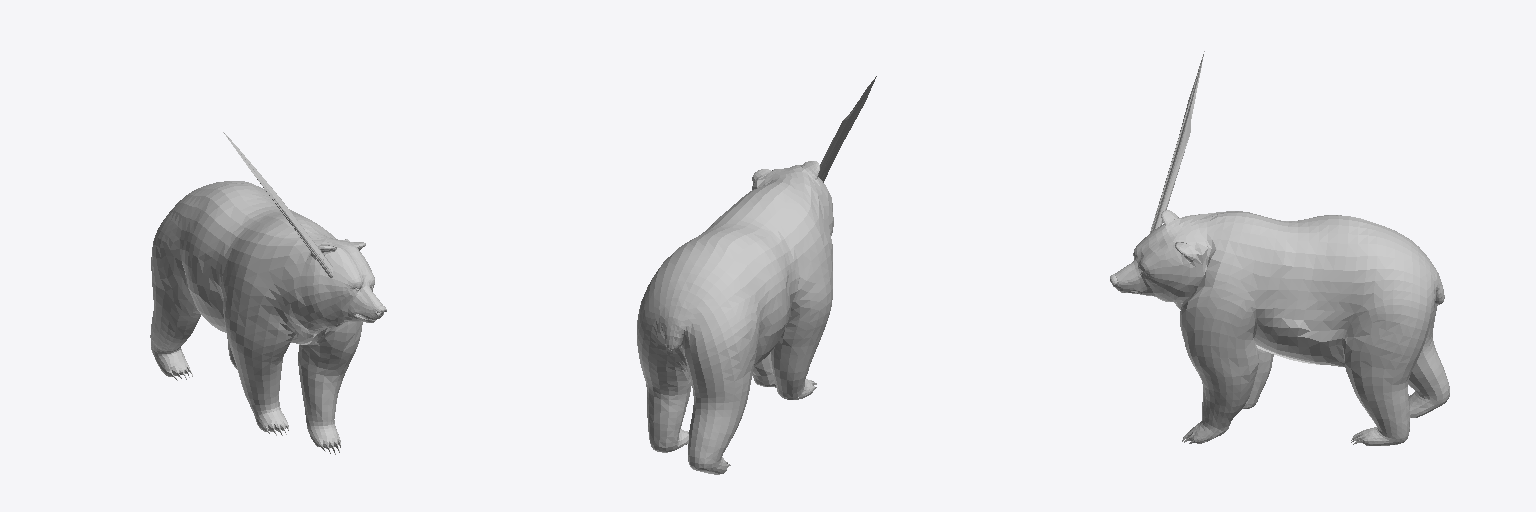
Rendered from Bear0093.obj.
3 renders of one model, left to right at view 1: azimuth 30°, elevation 25°; view 2: azimuth 150°, elevation 25°; view 3: azimuth 270°, elevation 25°, orthographic.
Visible parts, largest first — view 1: Object_237; view 2: Object_237; view 3: Object_237.
Part boxes in pixels (x1,y1,x2,y2): Object_237: (150,132,386,454); Object_237: (637,76,876,474); Object_237: (1110,51,1449,445).
Size of the model in its own units: 2.36 by 5.38 by 4.87.